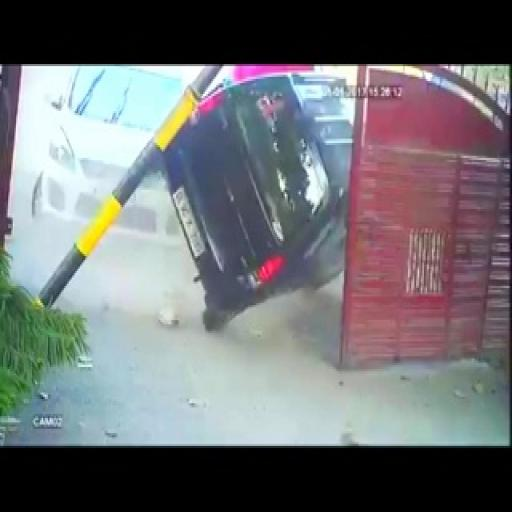Car: (162, 81, 352, 333), (30, 67, 185, 247)
Major Accident: (27, 65, 354, 340)
